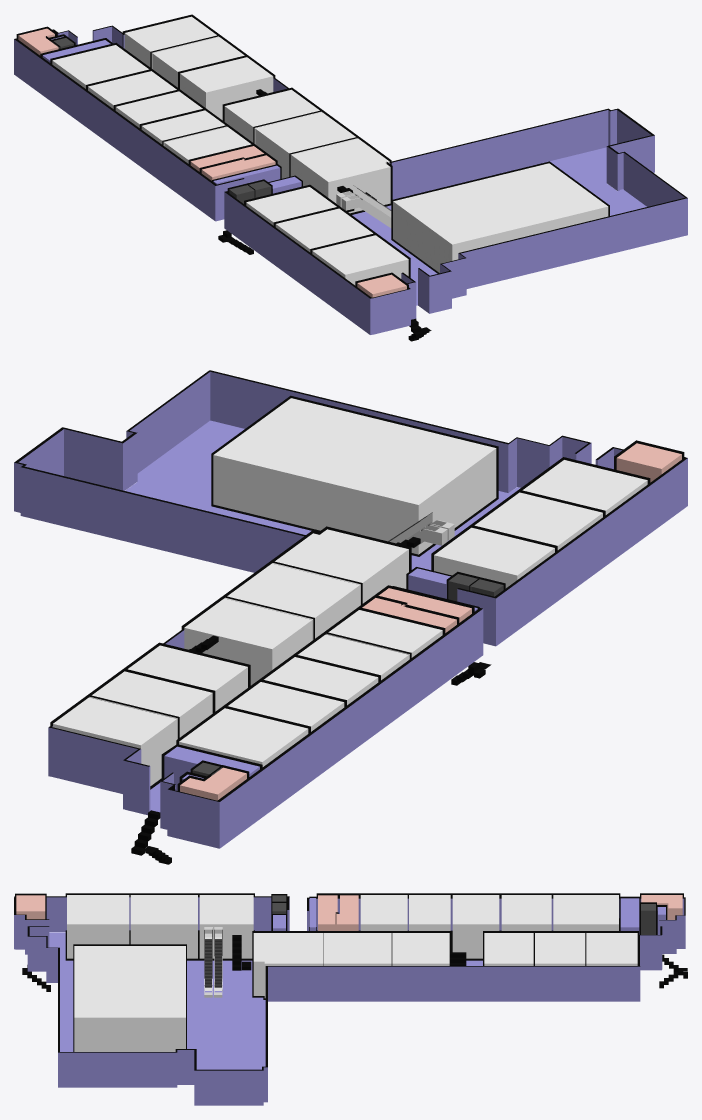
3 renders of one model, top to bottom at view 1: azimuth 30°, elevation 25°; view 2: azimuth 150°, elevation 25°; view 3: azimuth 270°, elevation 25°, orthographic. The views are drawn at different scales.
Visible parts, largest first — view 1: object, room_10_3_1, room_10_3_15, room_10_3_12, room_10_3_14, room_10_3_2, room_10_3_13, room_10_3_3, room_10_3_10, room_10_3_9, room_10_3_11, room_10_3_4 (+12 smaller); view 2: object, room_10_3_1, room_10_3_13, room_10_3_15, room_10_3_14, room_10_3_10, room_10_3_4, room_10_3_9, room_10_3_3, room_10_3_11, room_10_3_2, room_10_3_12 (+14 smaller); view 3: object, room_10_3_1, room_10_3_3, room_10_3_2, room_10_3_4, room_10_3_15, room_10_3_7, room_10_3_9, room_10_3_14, room_10_3_13, room_10_3_8, room_10_3_5 (+14 smaller).
Boxes of the visible parts, <box> form: object: <box>14,25,687,334</box>; room_10_3_1: <box>393,163,608,272</box>; room_10_3_15: <box>291,138,390,213</box>; room_10_3_12: <box>180,57,273,120</box>; room_10_3_14: <box>255,112,357,178</box>; room_10_3_2: <box>312,235,408,285</box>; room_10_3_13: <box>224,89,321,143</box>; room_10_3_3: <box>275,208,372,252</box>; room_10_3_10: <box>124,16,218,68</box>; room_10_3_9: <box>52,45,148,88</box>; room_10_3_11: <box>152,37,244,87</box>; room_10_3_4: <box>246,187,336,225</box>; object: <box>14,370,687,848</box>; room_10_3_1: <box>213,398,496,554</box>; room_10_3_13: <box>184,598,312,685</box>; room_10_3_15: <box>272,529,408,605</box>; room_10_3_14: <box>224,563,359,640</box>; room_10_3_10: <box>53,697,176,785</box>; room_10_3_4: <box>434,527,554,588</box>; room_10_3_9: <box>179,708,308,766</box>; room_10_3_3: <box>474,492,602,549</box>; room_10_3_11: <box>89,671,212,739</box>; room_10_3_2: <box>522,460,647,514</box>; room_10_3_12: <box>128,645,247,711</box>; object: <box>14,896,685,1105</box>; room_10_3_1: <box>74,946,185,1051</box>; room_10_3_3: <box>130,895,197,958</box>; room_10_3_2: <box>67,895,129,958</box>; room_10_3_4: <box>199,895,253,958</box>; room_10_3_15: <box>253,933,323,998</box>; room_10_3_7: <box>452,895,499,958</box>; room_10_3_9: <box>553,895,618,930</box>; room_10_3_14: <box>324,933,391,965</box>; room_10_3_13: <box>392,933,449,965</box>; room_10_3_8: <box>501,895,551,930</box>; room_10_3_5: <box>360,895,407,930</box>.
Bounding box in the file's own units: 1.68 × 0.3358 × 2.74.
